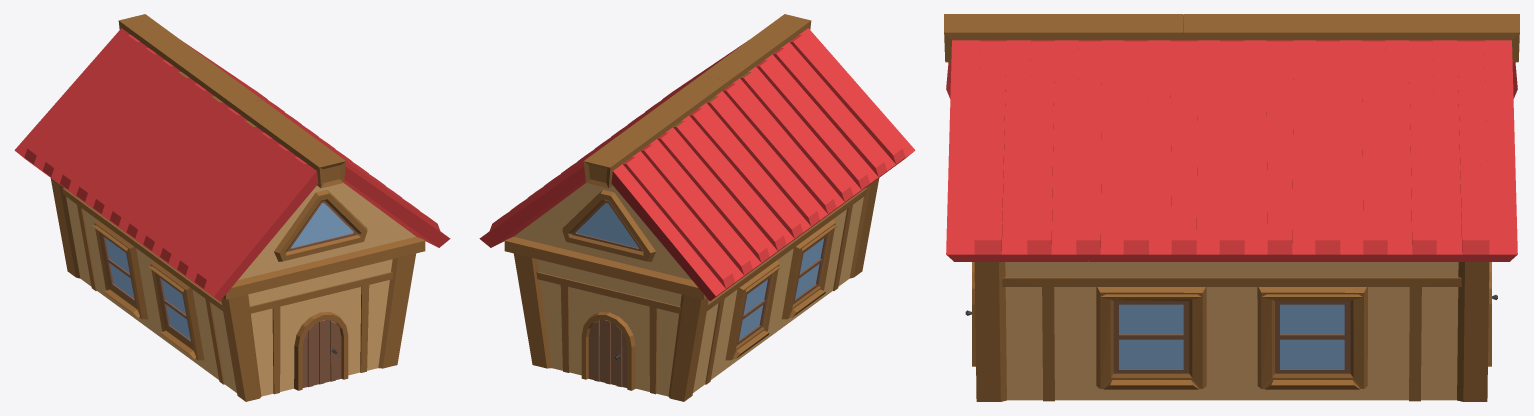
File: HouseDouble.fbx
The picture shows the model from 3 angles, left to right: view 1: azimuth 30°, elevation 25°; view 2: azimuth 150°, elevation 25°; view 3: azimuth 270°, elevation 25°; orthographic projection. The views are drawn at different scales.
Visible parts, largest first — view 1: Cube.006; view 2: Cube.006; view 3: Cube.006.
Part boxes in pixels (x1=…): Cube.006: x1=14, y1=14, x2=450, y2=401; Cube.006: x1=479, y1=14, x2=915, y2=401; Cube.006: x1=944, y1=14, x2=1519, y2=401.
Size of the model in its own units: 403 by 370 by 593.
